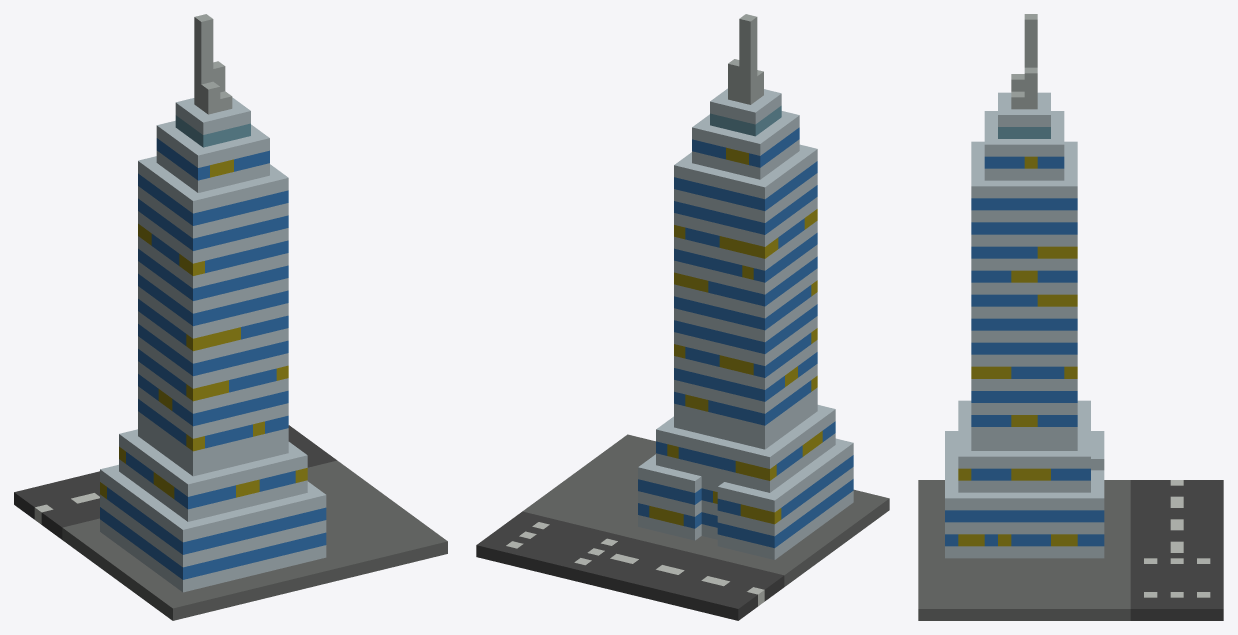
File: Latino.glb
The picture shows the model from 3 angles, left to right: view 1: azimuth 30°, elevation 25°; view 2: azimuth 150°, elevation 25°; view 3: azimuth 270°, elevation 25°; orthographic projection. The views are drawn at different scales.
Parts seen in each view (by area): view 1: unnamed_object1; view 2: unnamed_object1; view 3: unnamed_object1.
Boxes of the visible parts, x1,y1,x2,y2 form: unnamed_object1: (14,14,447,620); unnamed_object1: (476,14,889,620); unnamed_object1: (918,14,1223,620).
Size of the model in its own units: 2.3 by 4.3 by 2.3.
1 material, 1 textured.
